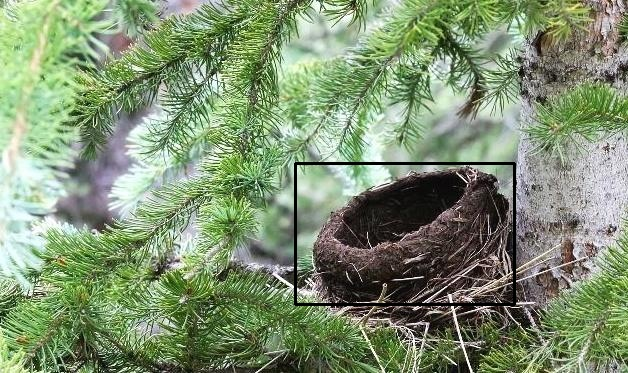bird-nest: (295, 163, 514, 304)
